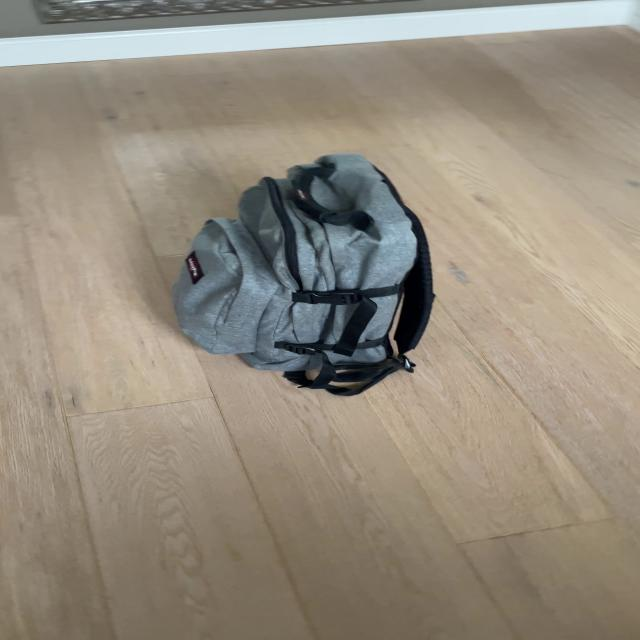backpack: (163, 143, 447, 403)
